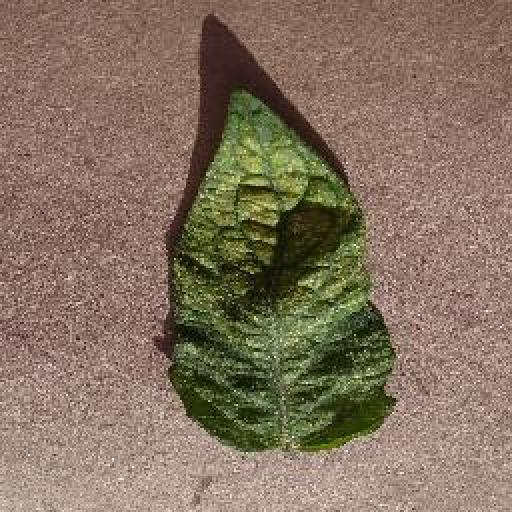disease_tomato: (167, 82, 396, 454)
